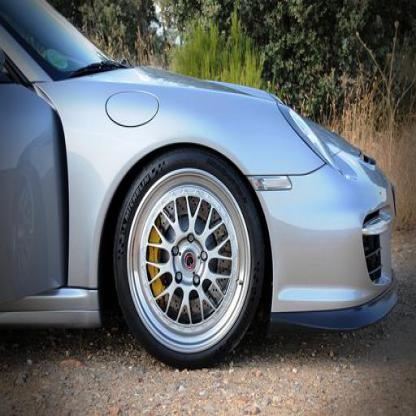Tire: (112, 143, 268, 372)
